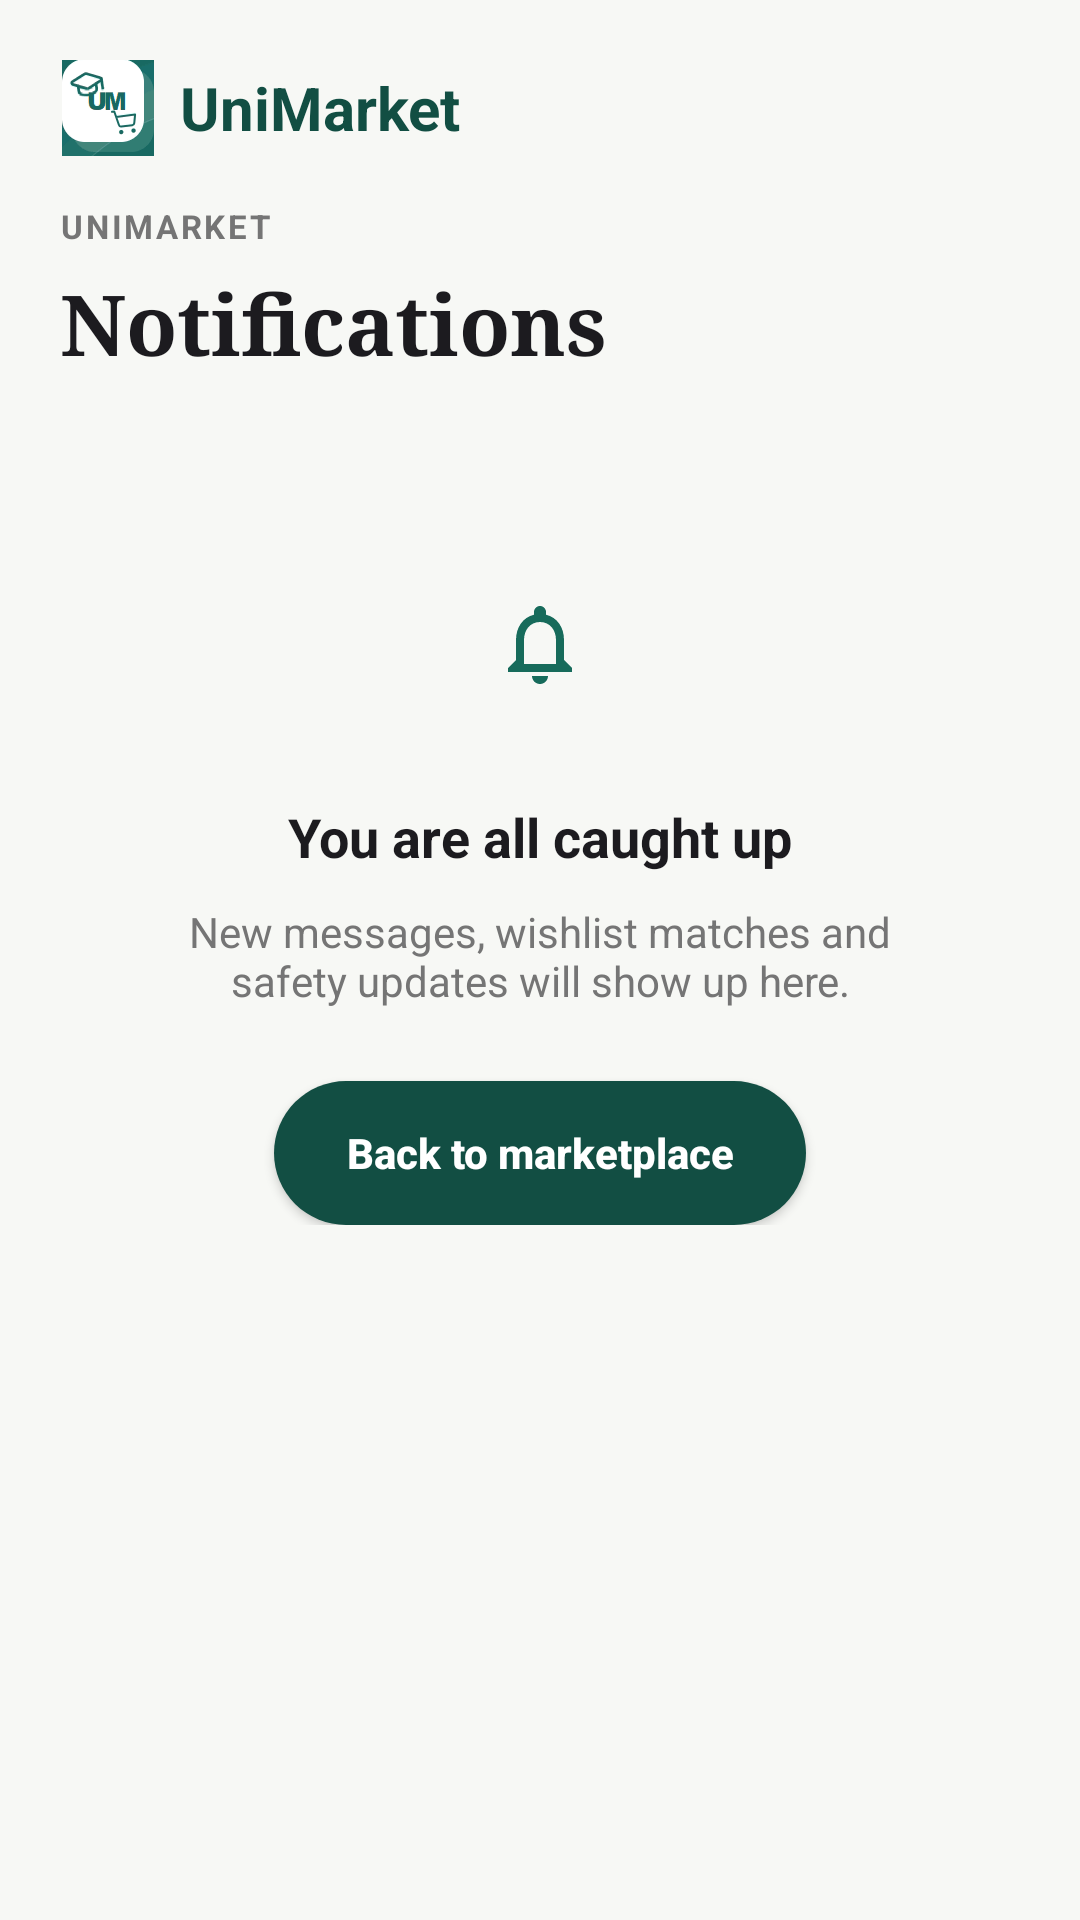

Icon bounding boxes for this 1080px×1920px phone screenshot, format (x1, y1, x2, y2):
Bell: (508, 606, 572, 684)
